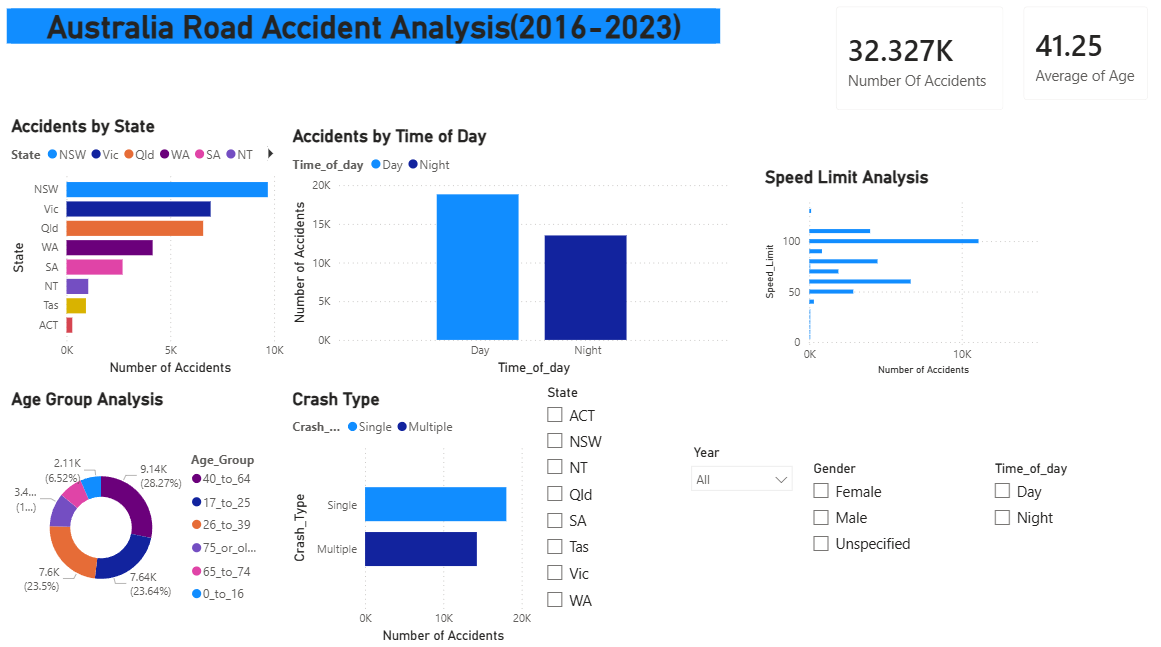

The page's visual inventory and layout, read from the dashboard file:
{"tool":"powerbi","page":{"name":"Page 1","canvas":[1280,720],"ordinal":0},"visuals":[{"type":"cardVisual","fields":{"Data":["CountNonNull(vw_Crash_Master.Crash_ID)"]},"box":[902.9,0,218.2,148.2],"z":0},{"type":"cardVisual","fields":{"Data":["Avg(vw_Crash_Master.Age)"]},"box":[1108.8,0,171.5,137.2],"z":1000},{"type":"barChart","title":"Accidents by State","fields":{"Y":["CountNonNull(vw_Crash_Master.Crash_ID)"],"Category":["vw_Crash_Master.State"],"Series":["vw_Crash_Master.State"]},"box":[9.6,137.2,308.7,289.5],"z":2000},{"type":"columnChart","title":"Accidents by Time of Day","fields":{"Y":["CountNonNull(vw_Crash_Master.Crash_ID)"],"Category":["vw_Crash_Master.Time_of_day"],"Series":["vw_Crash_Master.Time_of_day"]},"box":[318.4,148.2,488.5,278.6],"z":3000},{"type":"clusteredBarChart","title":"Speed Limit Analysis","fields":{"Category":["vw_Crash_Master.Speed_Limit"],"Y":["CountNonNull(vw_Crash_Master.Crash_ID)"]},"box":[837.1,193.5,319.7,233.3],"z":4000},{"type":"donutChart","title":"Age Group Analysis","fields":{"Category":["vw_Crash_Master.Age_Group"],"Y":["CountNonNull(vw_Crash_Master.Crash_ID)"]},"box":[9.6,436.4,292.3,284],"z":5000},{"type":"barChart","title":"Crash Type","fields":{"Category":["vw_Crash_Master.Crash_Type"],"Y":["CountNonNull(vw_Crash_Master.Crash_ID)"],"Series":["vw_Crash_Master.Crash_Type"]},"box":[318.4,436.4,271.7,284],"z":6000},{"type":"slicer","fields":{"Values":["vw_Crash_Master.State"]},"box":[590.1,426.8,160.5,293.7],"z":6001},{"type":"slicer","fields":{"Values":["vw_Crash_Master.Year"]},"box":[750.6,492.6,131.7,209.9],"z":6002},{"type":"slicer","fields":{"Values":["vw_Crash_Master.Gender"]},"box":[882.3,510.5,167.4,209.9],"z":6003},{"type":"slicer","fields":{"Values":["vw_Crash_Master.Time_of_day"]},"box":[1081,510,167,210],"z":6004},{"type":"textbox","title":"Australia Road Accident Analysis(2016-2023)","box":[9.6,19.2,783.5,38.4],"z":6006}]}

Visuals, with their boxes in screenshot pixels (x1, y1, x2, y2), scaled from the page's 1280x720 canvas onto the 1161x647 screenshot:
cardVisual - CountNonNull(vw_Crash_Master.Crash_ID): detection(819, 0, 1017, 133)
cardVisual - Avg(vw_Crash_Master.Age): detection(1006, 0, 1160, 123)
"Accidents by State" barChart: detection(9, 123, 289, 383)
"Accidents by Time of Day" columnChart: detection(289, 133, 732, 384)
"Speed Limit Analysis" clusteredBarChart: detection(759, 174, 1049, 384)
"Age Group Analysis" donutChart: detection(9, 392, 274, 646)
"Crash Type" barChart: detection(289, 392, 535, 646)
slicer - vw_Crash_Master.State: detection(535, 384, 681, 646)
slicer - vw_Crash_Master.Year: detection(681, 443, 800, 631)
slicer - vw_Crash_Master.Gender: detection(800, 459, 952, 646)
slicer - vw_Crash_Master.Time_of_day: detection(981, 458, 1132, 646)
"Australia Road Accident Analysis(2016-2023)" textbox: detection(9, 17, 719, 52)
